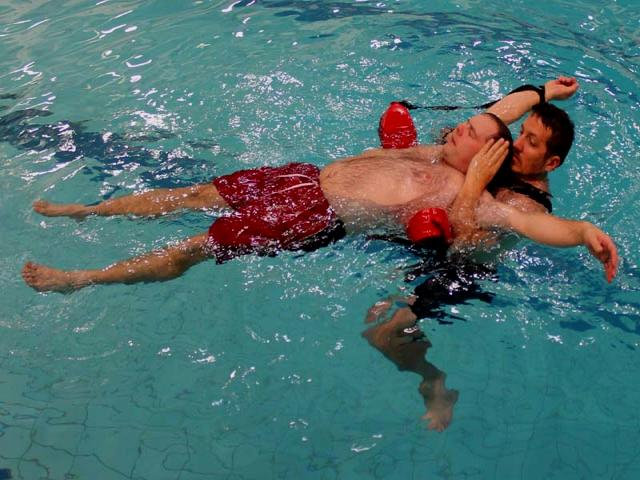drowning: (21, 117, 502, 293)
swimming: (512, 92, 584, 244)
